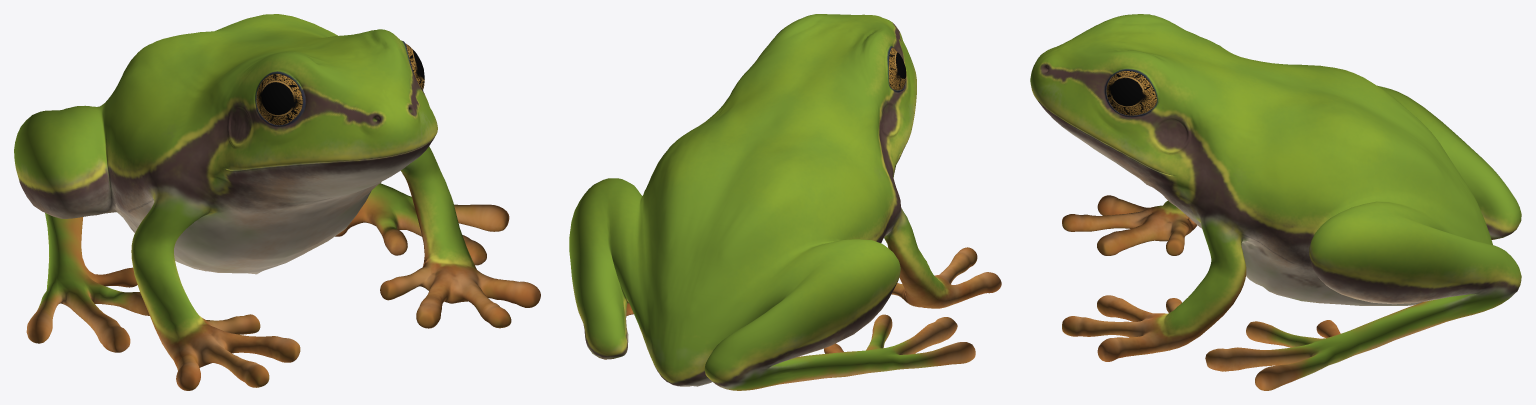
3 views of the same model, side by side, from view 1: azimuth 30°, elevation 25°; view 2: azimuth 150°, elevation 25°; view 3: azimuth 270°, elevation 25° (orthographic). The views are drawn at different scales.
Parts seen in each view (by area): view 1: Frog.001; view 2: Frog.001; view 3: Frog.001.
Part boxes in pixels (<box>): Frog.001: <box>14,14,540,390</box>; Frog.001: <box>569,14,1001,390</box>; Frog.001: <box>1030,14,1521,390</box>.
Size of the model in its own units: 0.3835 by 0.2292 by 0.3885.
2 materials, 2 textured.
